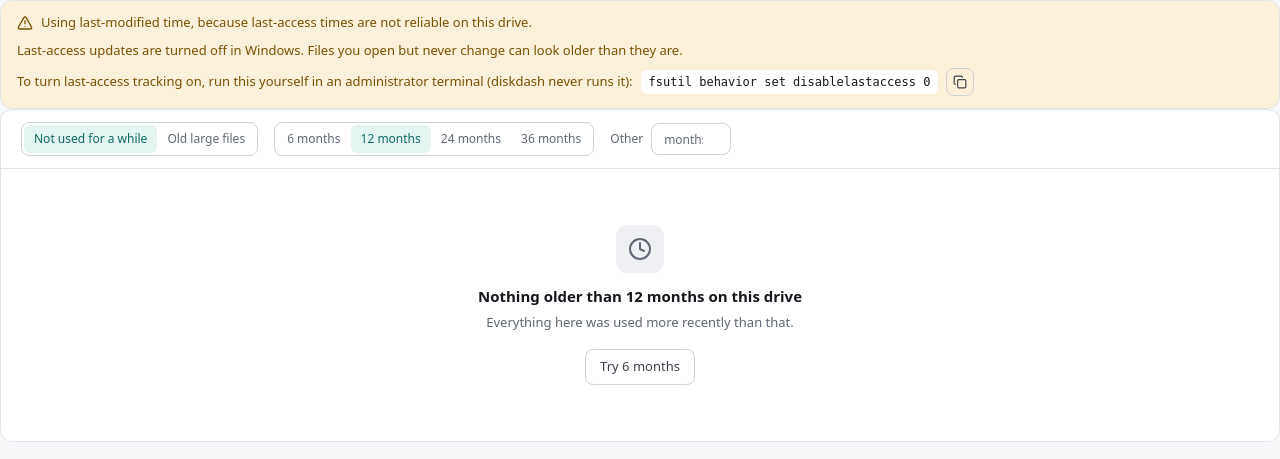
Test: StaleTab › offers a shorter preset when nothing is old enough
The image size is (1280, 459).
Expected: the heading "Nothing older than 12 months on this drive" is shown, [478,285,802,308]
Click the button "Try 6 months" at (640, 367), box [585,349,695,385]
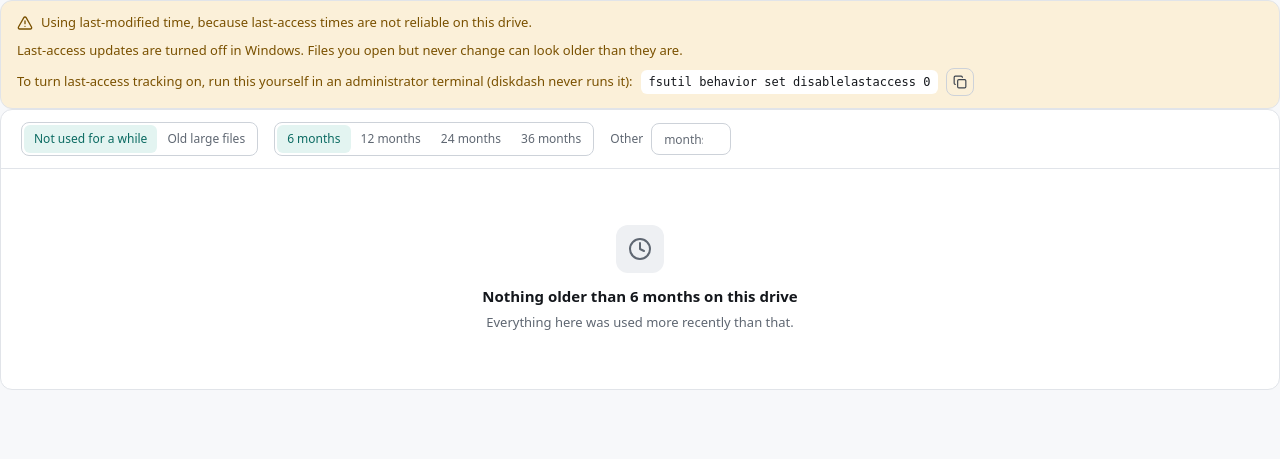
Now the heading "Nothing older than 6 months on this drive" is shown, box [482,285,798,308]
